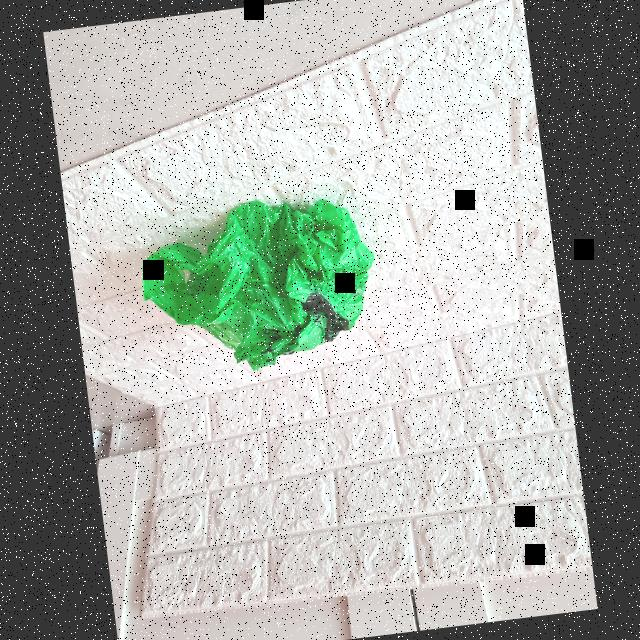plastic_bag: (115, 180, 404, 394)
